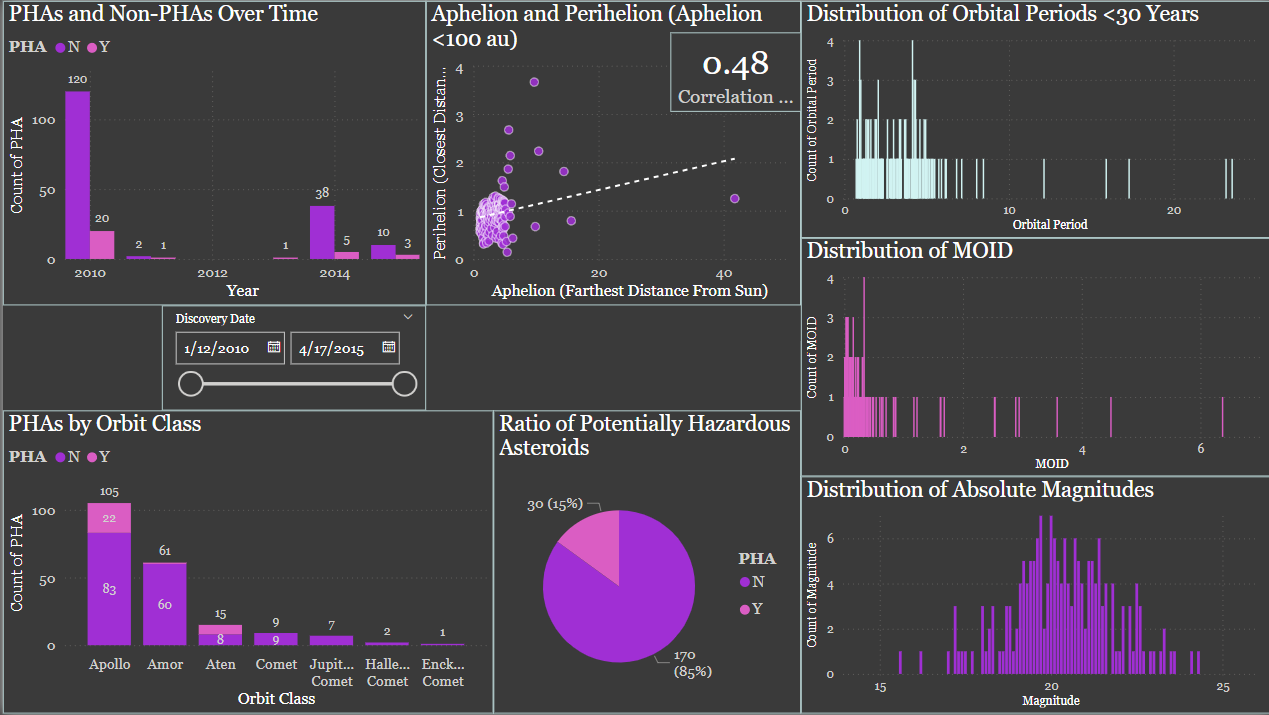

This screenshot's page, from the dashboard's own definition file:
{"tool":"powerbi","page":{"name":"Dashboard","canvas":[1280,720],"ordinal":0},"visuals":[{"type":"clusteredColumnChart","title":"PHAs and Non-PHAs Over Time","fields":{"Category":["NEOs_cleaned.Discovery Date.Variation.Date Hierarchy.Year1","NEOs_cleaned.Discovery Date.Variation.Date Hierarchy.Month","NEOs_cleaned.Discovery Date.Variation.Date Hierarchy.Day"],"Y":["CountNonNull(NEOs_cleaned.PHA)"],"Series":["NEOs_cleaned.PHA"]},"box":[0,0,427.3,307.6],"z":0},{"type":"scatterChart","title":"Aphelion and Perihelion (Aphelion <100 au)","fields":{"X":["NEOs_cleaned.Aphelion"],"Y":["NEOs_cleaned.Perihelion"]},"box":[427.3,0,378.8,307.6],"z":1},{"type":"card","fields":{"Values":["NEOs_cleaned.Sum of Aphelion and Sum of Perihelion correlation for Designation"]},"box":[674.2,31.8,131.8,80.3],"z":2},{"type":"pieChart","title":"Ratio of Potentially Hazardous Asteroids","fields":{"Category":["NEOs_cleaned.PHA"],"Y":["CountNonNull(NEOs_cleaned.PHA)"]},"box":[495.5,413.6,310.6,306.1],"z":3},{"type":"columnChart","title":"PHAs by Orbit Class","fields":{"Category":["NEOs_cleaned.Orbit Class"],"Series":["NEOs_cleaned.PHA"],"Y":["CountNonNull(NEOs_cleaned.PHA)"]},"box":[0,413.6,495.5,306.1],"z":4},{"type":"clusteredColumnChart","title":"Distribution of Orbital Periods <30 Years","fields":{"Y":["CountNonNull(NEOs_cleaned.Orbital Period)"],"Category":["NEOs_cleaned.Orbital Period"]},"box":[806.1,0,474.2,239.4],"z":5},{"type":"clusteredColumnChart","title":"Distribution of Absolute Magnitudes","fields":{"Y":["CountNonNull(NEOs_cleaned.Magnitude)"],"Category":["NEOs_cleaned.Magnitude"]},"box":[806.1,480.3,474.2,239.4],"z":6},{"type":"clusteredColumnChart","title":"Distribution of MOID","fields":{"Y":["CountNonNull(NEOs_cleaned.MOID)"],"Category":["NEOs_cleaned.MOID"]},"box":[806.1,239.4,474.2,240.9],"z":7},{"type":"slicer","fields":{"Values":["NEOs_cleaned.Discovery Date"]},"box":[160.6,307.6,266.7,106.1],"z":8}]}

Visuals, with their boxes in screenshot pixels (x1, y1, x2, y2), scaled from the page's 1280x720 canvas onto the 1269x715 screenshot:
"PHAs and Non-PHAs Over Time" clusteredColumnChart: left=0, top=0, right=424, bottom=305
"Aphelion and Perihelion (Aphelion <100 au)" scatterChart: left=424, top=0, right=799, bottom=305
card - NEOs_cleaned.Sum of Aphelion and Sum of Perihelion correlation for Designation: left=668, top=32, right=799, bottom=111
"Ratio of Potentially Hazardous Asteroids" pieChart: left=491, top=411, right=799, bottom=714
"PHAs by Orbit Class" columnChart: left=0, top=411, right=491, bottom=714
"Distribution of Orbital Periods <30 Years" clusteredColumnChart: left=799, top=0, right=1268, bottom=238
"Distribution of Absolute Magnitudes" clusteredColumnChart: left=799, top=477, right=1268, bottom=714
"Distribution of MOID" clusteredColumnChart: left=799, top=238, right=1268, bottom=477
slicer - NEOs_cleaned.Discovery Date: left=159, top=305, right=424, bottom=411
